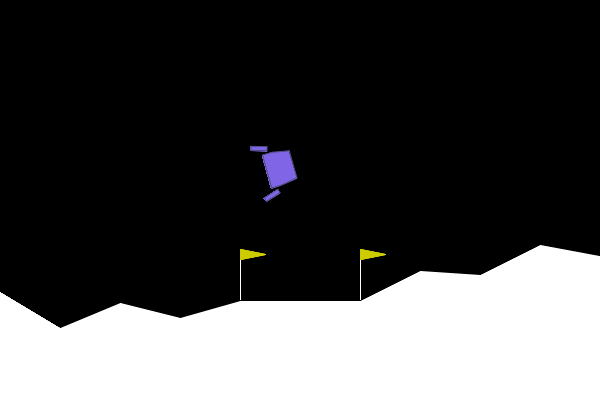lander: (248, 135, 303, 204)
